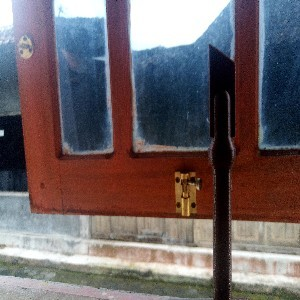cutter: (207, 43, 238, 300)
